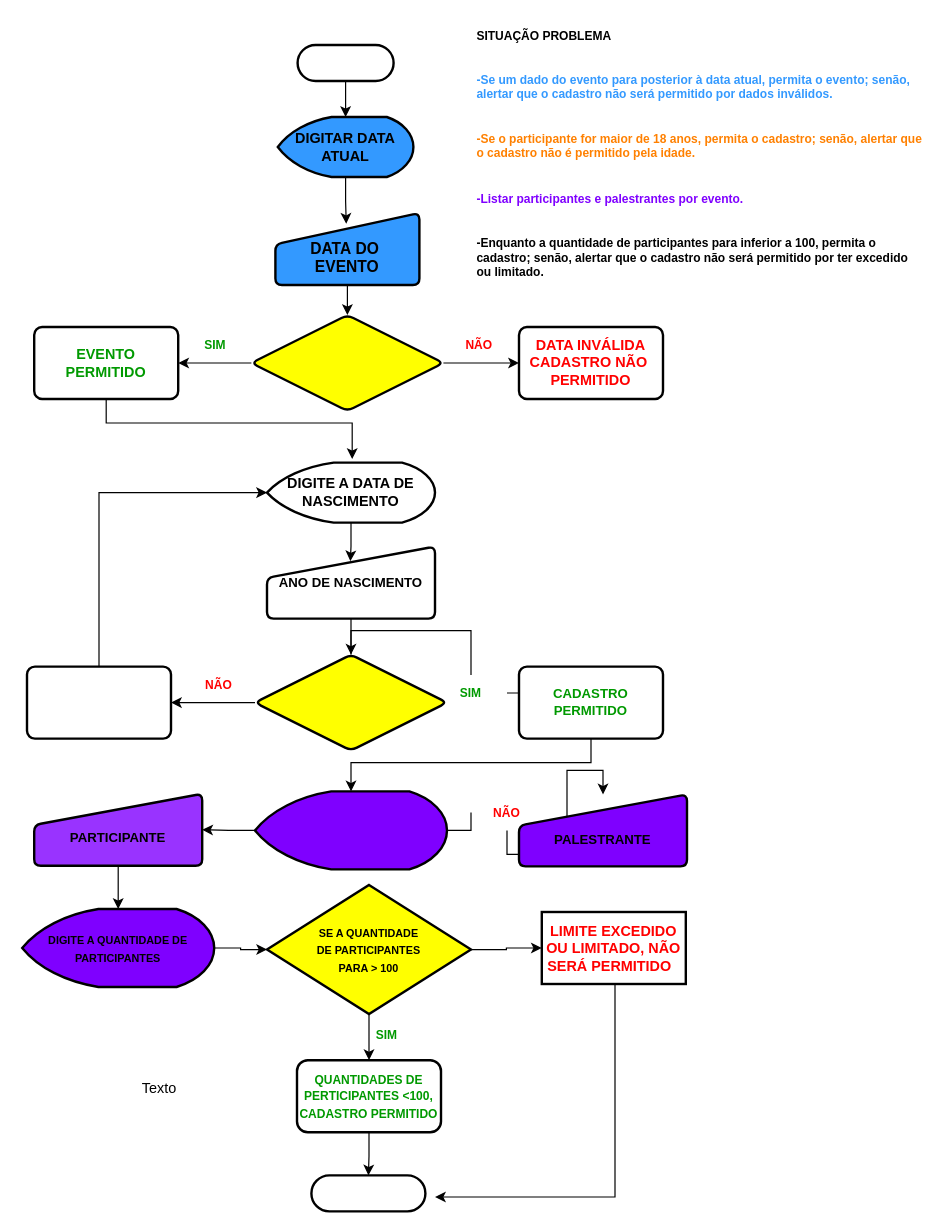
Image size: 947x1232. Some labels were removed from this diagram. Each missing label, with the centre of its shape:
DATA ATUAL DATA DO EVENTO: pixel 347 362
DIGITE O TIPO DE USUÁRIO (LISTAR PARTICIPANTES E PALESTRANTES): pixel 350 830
ENICIO: pixel 345 62
FIM: pixel 368 1193
MENOR DE 18 ANOS, CADASTRO NÃO PERMITIDO: pixel 98 702
SE O PARTICIPANTE FOR < DE 18: pixel 350 702
